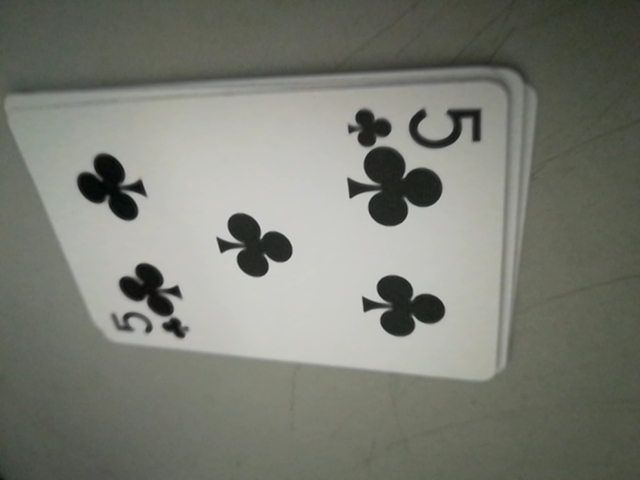mh 5: (344, 96, 486, 151), (104, 306, 191, 342)
